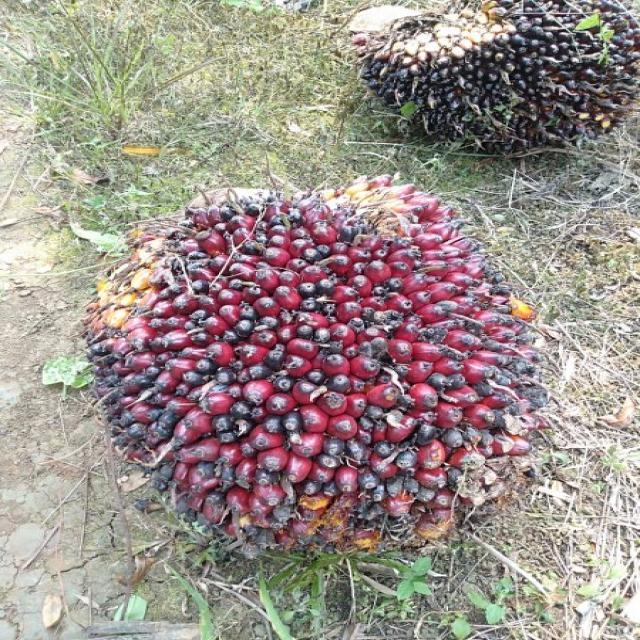fraksi 00: (310, 0, 640, 162)
fraksi 1: (42, 166, 618, 590)
